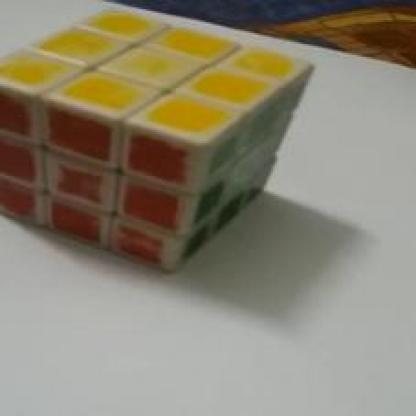cube: (4, 5, 294, 299)
